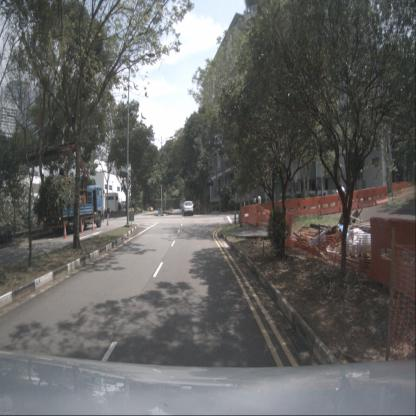human-pedestrian-adult: (106, 204, 111, 223), (258, 193, 262, 211), (101, 205, 105, 223), (253, 195, 256, 210), (336, 187, 338, 203)
movable_object-barrier: (367, 216, 416, 286), (272, 215, 294, 250), (339, 190, 360, 212), (320, 194, 340, 216), (298, 196, 320, 215), (279, 198, 299, 218), (358, 187, 376, 209), (264, 202, 283, 219), (375, 185, 389, 206), (392, 182, 411, 197), (240, 206, 256, 223), (255, 205, 271, 221), (251, 206, 260, 227), (247, 203, 254, 225)
movable_object-trafficcone: (63, 223, 68, 239), (80, 219, 84, 234), (91, 217, 95, 230), (106, 215, 110, 226)
vehicle-car: (184, 200, 193, 216), (121, 200, 130, 208), (113, 202, 121, 210), (179, 200, 185, 210), (182, 203, 187, 212)
vehicle-truck: (41, 184, 103, 233)
